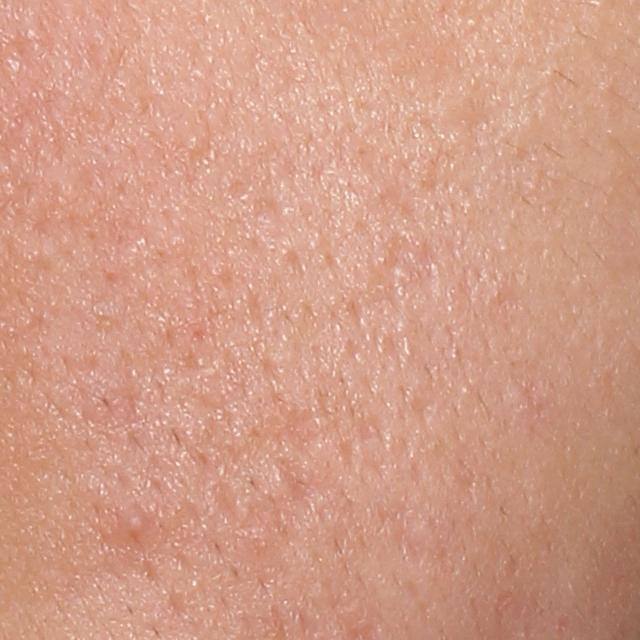papule: (119, 507, 150, 535)
